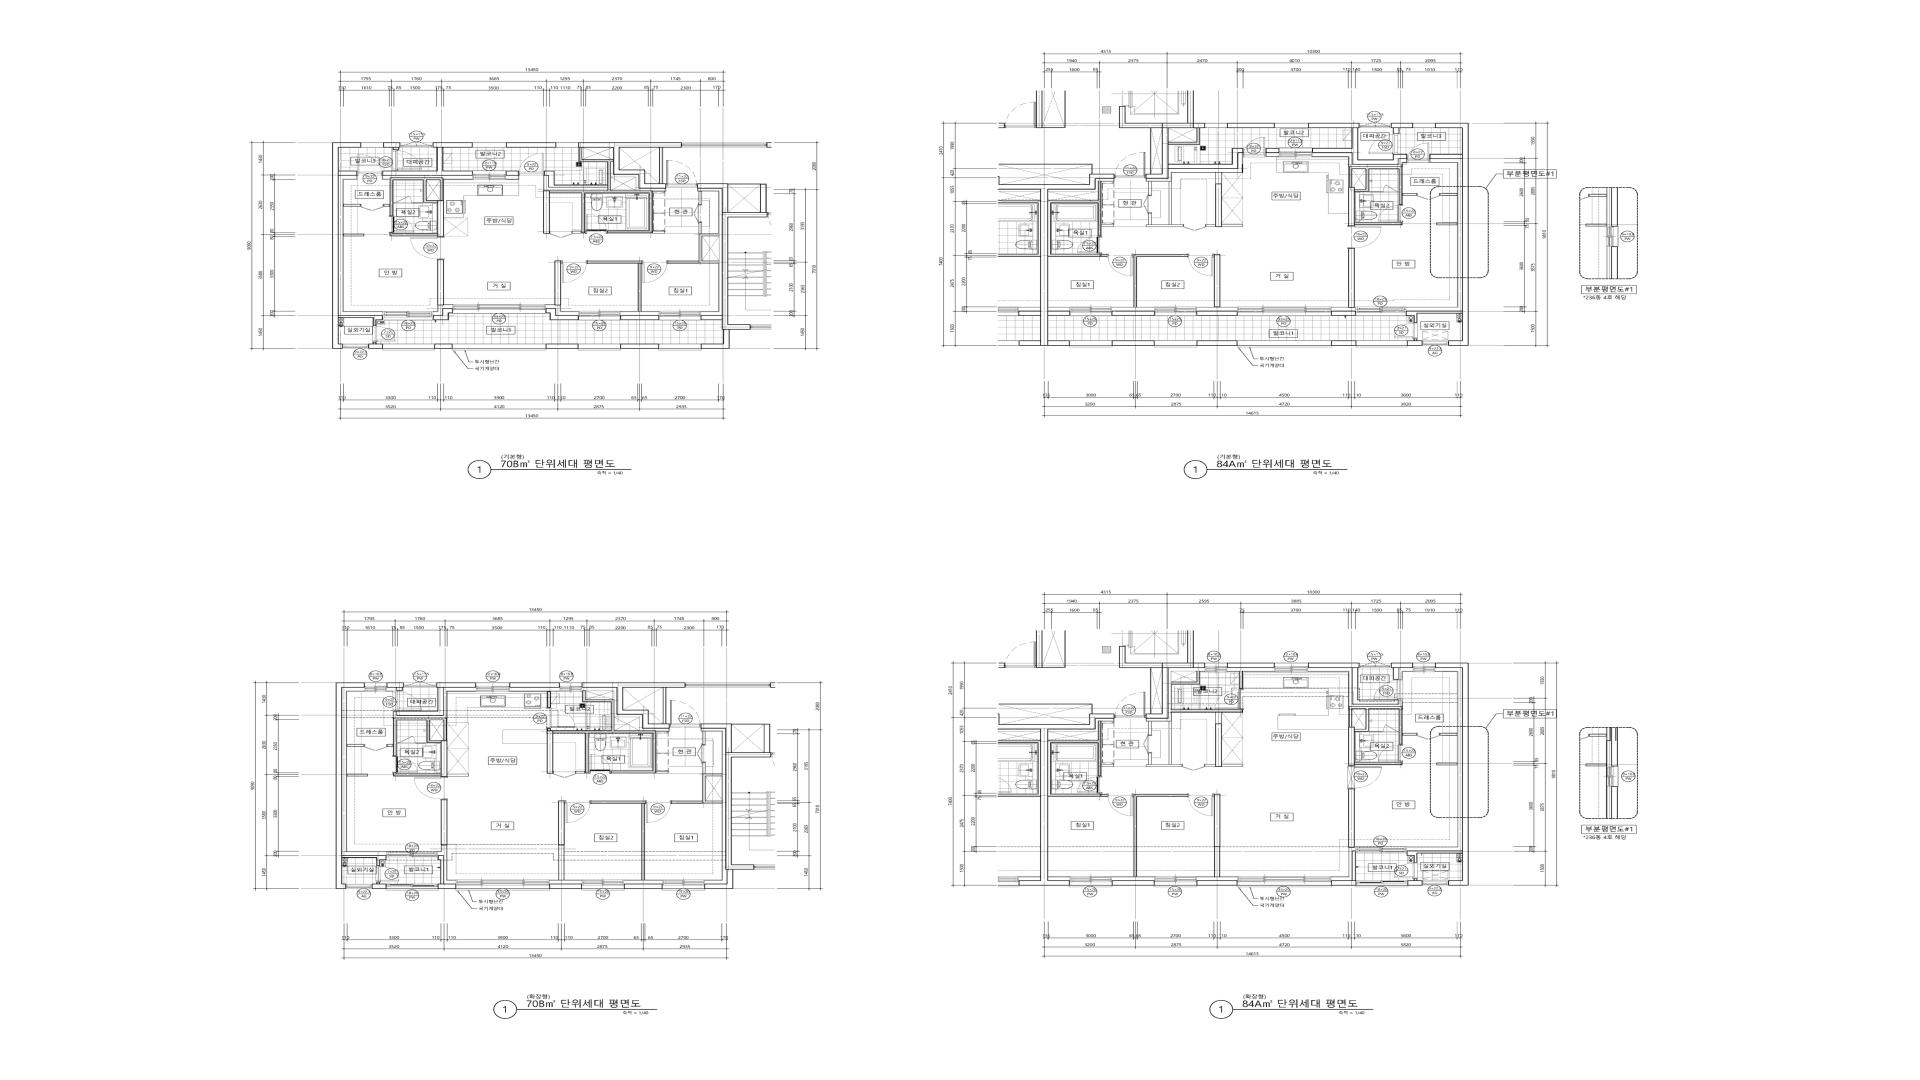door: (666, 160, 698, 187), (1114, 152, 1146, 178), (669, 700, 700, 727), (1114, 692, 1146, 719), (410, 236, 444, 260), (1349, 225, 1382, 248), (1349, 766, 1382, 789), (1369, 133, 1399, 154), (393, 150, 422, 171), (1215, 688, 1244, 709), (1374, 679, 1403, 700), (645, 800, 671, 823), (564, 800, 591, 823), (1188, 794, 1215, 816), (1108, 794, 1134, 816), (518, 153, 545, 175), (642, 261, 667, 284), (560, 261, 587, 282), (1108, 255, 1134, 276), (1188, 255, 1215, 276), (393, 691, 421, 711), (547, 708, 575, 728), (357, 154, 382, 175), (1378, 204, 1403, 223), (1244, 137, 1266, 157), (1407, 142, 1429, 162), (585, 214, 608, 233), (1077, 236, 1101, 255), (1378, 745, 1403, 762), (588, 754, 611, 773), (390, 216, 414, 233), (393, 756, 417, 773), (1077, 777, 1101, 794), (373, 326, 396, 342), (1395, 323, 1418, 339), (1395, 862, 1418, 878), (377, 866, 398, 882), (1416, 193, 1440, 199), (1183, 224, 1207, 231), (553, 771, 576, 778), (360, 204, 384, 211), (1418, 733, 1440, 740), (550, 231, 572, 237), (1143, 195, 1151, 214), (397, 736, 415, 744), (1143, 735, 1151, 753), (694, 204, 702, 223), (698, 745, 705, 762), (1383, 185, 1399, 193), (1182, 765, 1205, 770), (393, 196, 411, 203), (364, 745, 386, 750), (1383, 725, 1399, 732)
wall: (1406, 123, 1469, 345), (1407, 663, 1469, 886), (1040, 713, 1114, 886), (1040, 174, 1114, 345), (543, 142, 682, 233), (700, 724, 771, 889), (698, 183, 767, 349), (335, 683, 386, 889), (332, 142, 382, 349), (1407, 667, 1462, 851), (1146, 669, 1244, 766), (547, 691, 657, 774), (1120, 107, 1244, 179), (1406, 158, 1462, 311), (342, 687, 386, 856), (1146, 153, 1244, 227), (1120, 646, 1205, 719), (339, 175, 382, 315), (582, 683, 686, 729), (1134, 794, 1188, 877), (591, 800, 645, 880), (1308, 123, 1407, 165), (702, 729, 727, 884), (582, 687, 670, 731), (1308, 667, 1403, 707), (1308, 663, 1399, 704), (1349, 166, 1403, 227), (1349, 707, 1403, 766), (393, 717, 447, 777), (390, 178, 444, 236), (698, 189, 721, 315), (382, 142, 472, 175), (1134, 255, 1188, 307), (587, 261, 642, 311), (397, 683, 476, 716), (393, 687, 476, 717), (611, 162, 666, 191), (1312, 153, 1407, 166), (550, 845, 582, 884), (543, 175, 608, 191), (1048, 719, 1114, 732), (1332, 851, 1356, 886), (1332, 847, 1356, 881), (1048, 179, 1114, 191), (438, 845, 455, 884), (438, 856, 455, 889), (1215, 794, 1220, 877), (702, 236, 719, 261), (1168, 128, 1197, 142), (705, 777, 723, 800), (546, 309, 579, 320), (1171, 671, 1200, 684), (382, 175, 472, 179), (1391, 663, 1414, 679), (546, 305, 579, 315), (1349, 789, 1354, 848), (1349, 248, 1354, 307), (1352, 169, 1366, 190), (438, 260, 444, 306), (440, 799, 447, 845), (554, 261, 560, 306), (430, 720, 443, 742), (558, 800, 564, 845), (426, 181, 440, 200), (1352, 709, 1366, 729), (1216, 183, 1222, 227), (1216, 724, 1222, 766), (1215, 255, 1220, 307), (506, 142, 556, 148), (1228, 663, 1275, 669), (1228, 123, 1275, 128), (1391, 123, 1414, 133), (433, 309, 452, 320), (1112, 311, 1155, 316), (1112, 881, 1154, 886), (1112, 340, 1154, 345), (1196, 311, 1237, 316), (620, 315, 659, 320), (1197, 881, 1237, 886), (1197, 340, 1237, 345), (433, 305, 452, 315), (624, 884, 662, 889), (509, 687, 559, 691), (509, 683, 559, 687), (621, 344, 658, 349), (1228, 667, 1275, 671), (1112, 307, 1155, 311), (1399, 667, 1414, 679), (550, 884, 582, 889), (1112, 877, 1154, 881), (546, 344, 578, 349), (1196, 307, 1237, 311), (1197, 877, 1237, 881), (620, 311, 659, 315), (624, 880, 662, 884), (384, 142, 401, 150), (386, 683, 404, 691), (671, 800, 703, 804), (1332, 311, 1356, 316), (1332, 340, 1356, 345), (1408, 878, 1423, 886), (368, 342, 382, 349), (1407, 339, 1423, 345), (663, 687, 666, 724), (434, 344, 452, 349), (372, 882, 386, 889), (659, 148, 662, 183), (1332, 307, 1356, 311), (667, 261, 699, 264), (1048, 307, 1069, 311), (1048, 877, 1069, 881), (1266, 148, 1279, 153), (1240, 671, 1244, 688), (547, 691, 551, 708), (1150, 128, 1151, 174), (1150, 669, 1151, 713), (1222, 224, 1244, 227), (447, 774, 468, 777), (505, 171, 518, 175), (1266, 153, 1279, 157), (505, 175, 518, 179), (728, 183, 761, 185), (732, 724, 764, 725), (386, 687, 397, 691), (1403, 733, 1418, 736), (1101, 224, 1114, 227), (653, 231, 665, 233), (1222, 765, 1244, 766), (1207, 224, 1216, 227), (572, 231, 582, 233), (1403, 194, 1416, 195), (1370, 191, 1383, 193), (1370, 731, 1383, 732), (1101, 765, 1114, 766), (386, 744, 393, 746), (384, 204, 390, 207), (657, 771, 669, 773), (1205, 765, 1216, 766), (415, 742, 426, 744), (576, 771, 585, 773), (411, 203, 422, 203)
window: (455, 880, 550, 890), (1237, 877, 1332, 887), (1237, 307, 1332, 316), (452, 305, 546, 314), (1237, 340, 1332, 347), (452, 344, 546, 351), (382, 311, 433, 320), (1356, 307, 1406, 316), (1154, 877, 1197, 887), (582, 880, 624, 890), (662, 880, 704, 890), (1069, 877, 1112, 887), (1069, 307, 1112, 316), (1155, 307, 1196, 316), (579, 311, 620, 320), (659, 311, 700, 320), (1356, 881, 1408, 887), (382, 344, 435, 351), (1356, 340, 1407, 347), (1279, 148, 1312, 157), (1275, 663, 1308, 673), (1154, 340, 1197, 347), (658, 344, 702, 351), (578, 344, 621, 351), (1069, 340, 1112, 347), (386, 885, 438, 890), (386, 852, 438, 857), (1356, 847, 1407, 852), (472, 171, 506, 179), (476, 683, 509, 691), (400, 141, 433, 148), (1205, 663, 1228, 673), (1414, 663, 1435, 673), (472, 142, 506, 148), (364, 683, 386, 691), (559, 683, 582, 691), (1275, 123, 1308, 128), (404, 682, 436, 687), (1360, 123, 1391, 128), (1360, 662, 1391, 667), (343, 344, 368, 349), (1205, 123, 1228, 128), (556, 142, 579, 148), (361, 142, 384, 148), (1414, 123, 1435, 128), (345, 885, 372, 889), (1423, 342, 1448, 345), (1423, 881, 1448, 885)
